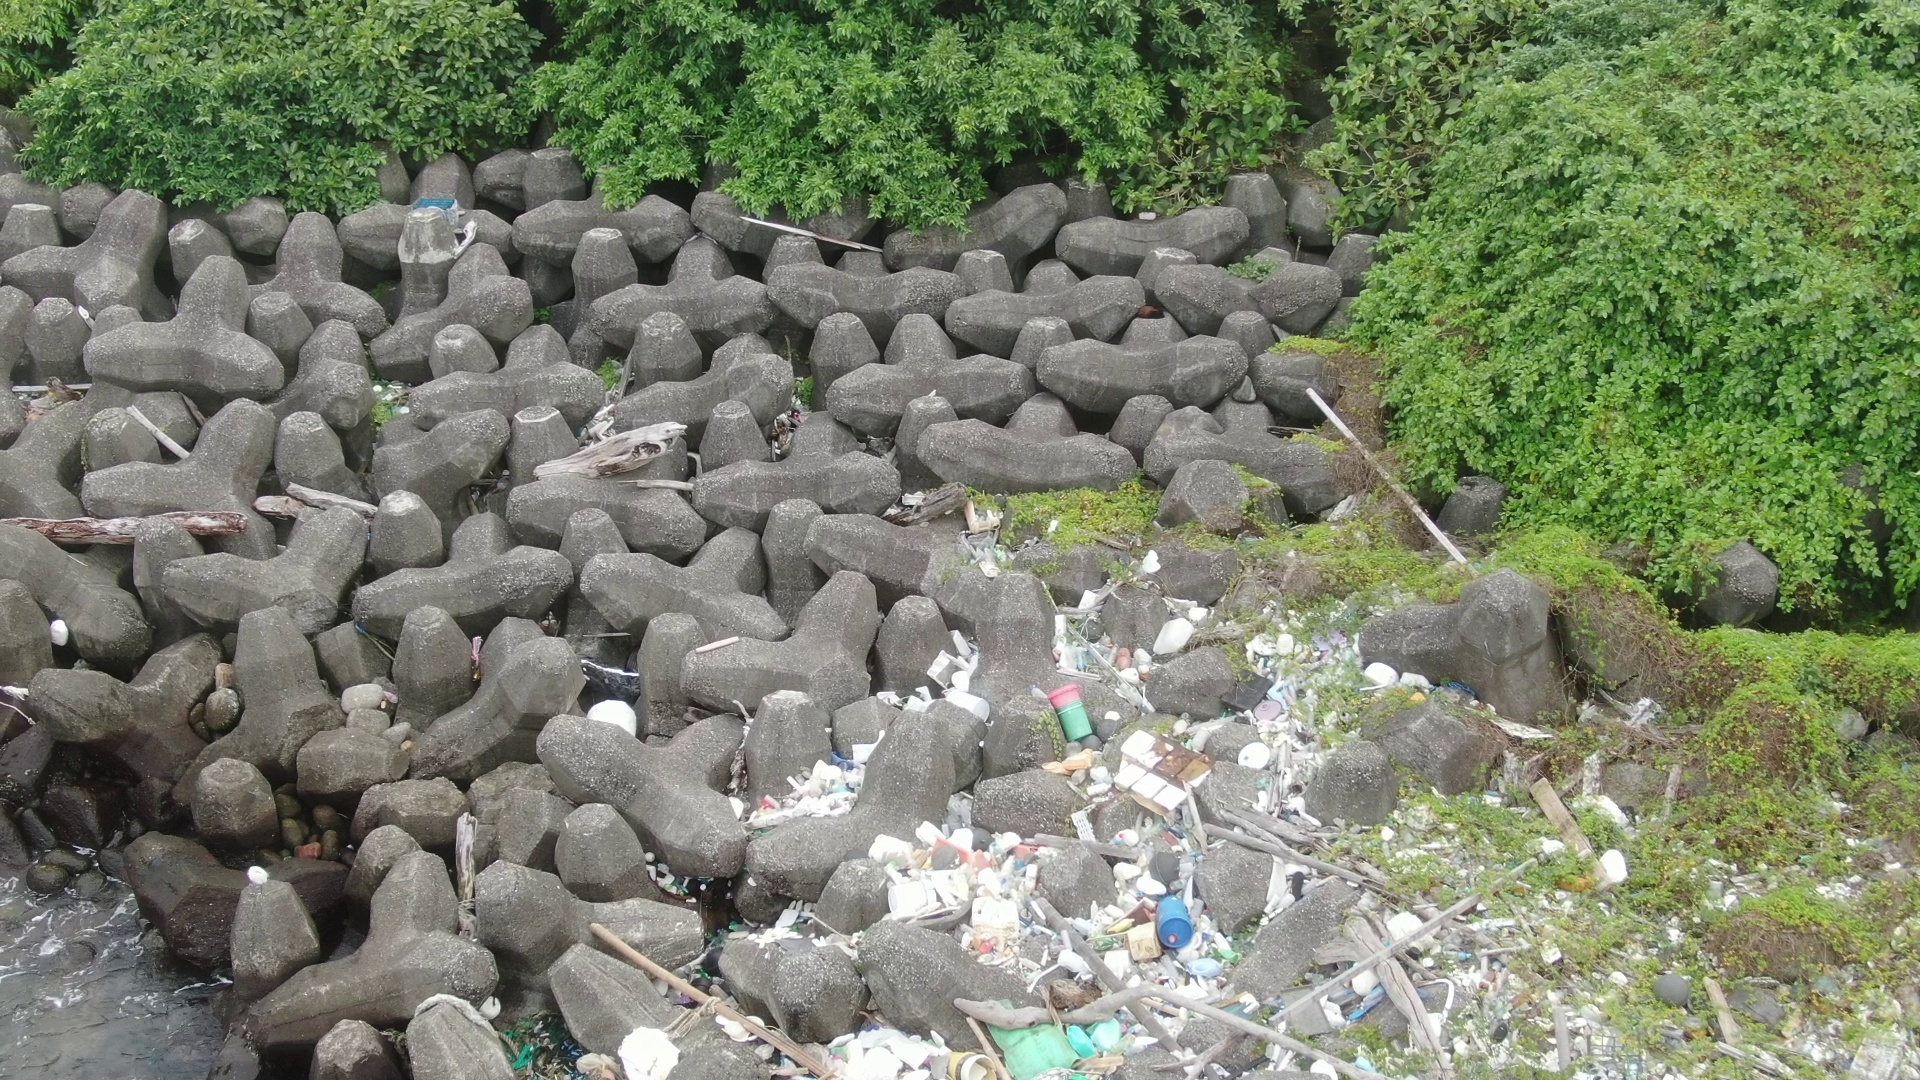garbage: (762, 669, 1429, 1001), (924, 498, 1378, 669), (732, 1017, 1364, 1080), (637, 835, 778, 996), (477, 992, 613, 1080), (407, 190, 477, 235)
